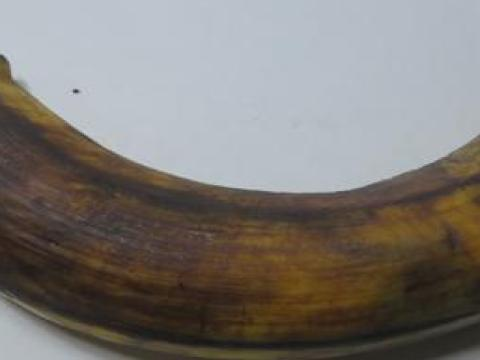overripe: (0, 35, 479, 359)
